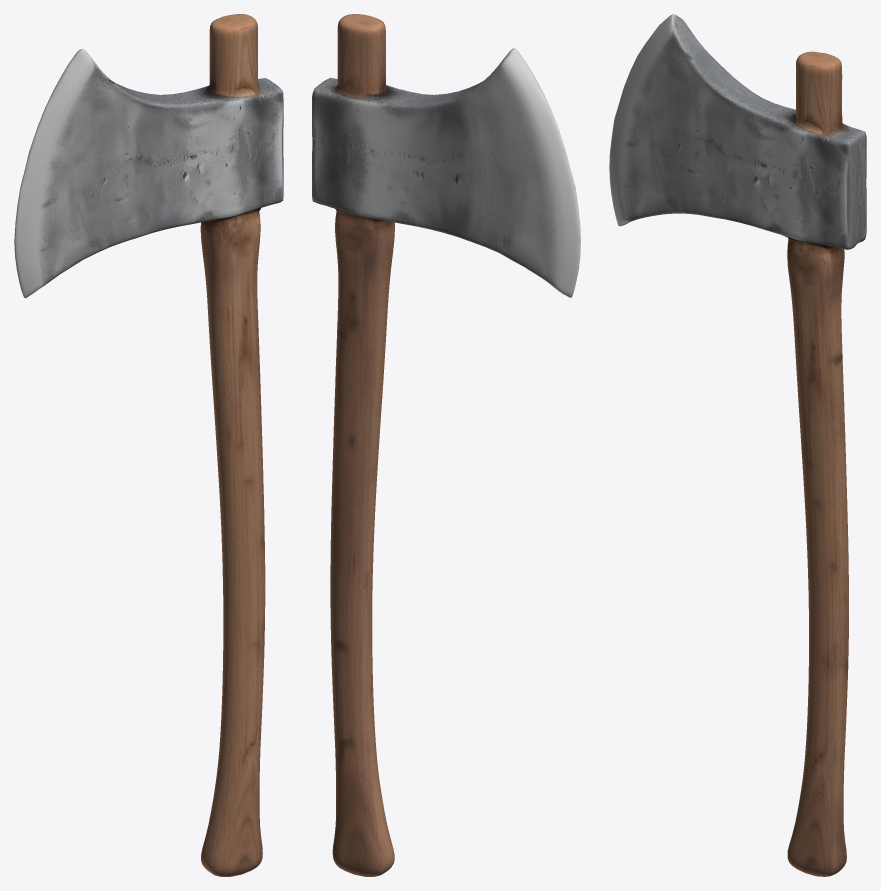
File: Meshy_AI_Axe_0901062947_texture.fbx
The picture shows the model from 3 angles, left to right: view 1: azimuth 30°, elevation 25°; view 2: azimuth 150°, elevation 25°; view 3: azimuth 330°, elevation 25°; orthographic projection. The views are drawn at different scales.
Parts seen in each view (by area): view 1: Mesh_0; view 2: Mesh_0; view 3: Mesh_0.
Boxes of the visible parts, left/top/right/bottom form: Mesh_0: left=14, top=14, right=283, bottom=876; Mesh_0: left=312, top=14, right=580, bottom=876; Mesh_0: left=609, top=14, right=866, bottom=876.
Bounding box in the file's own units: 63.76 × 200 × 10.03.
Materials: 1 (1 with a texture image).
